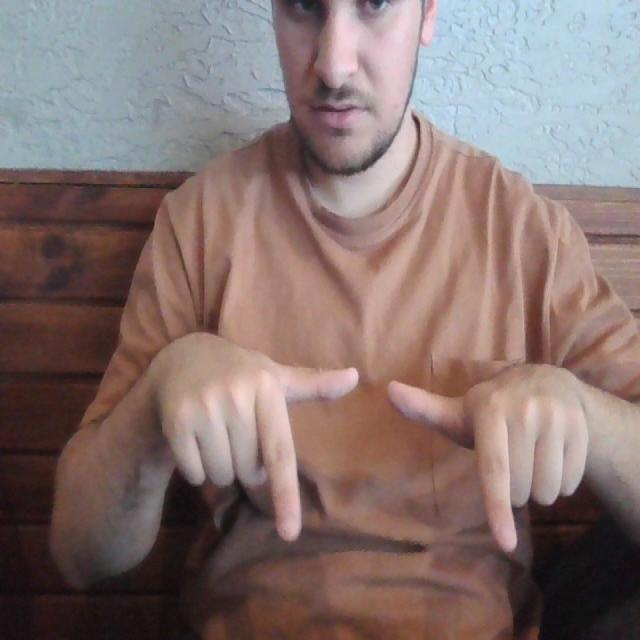Nerede: (243, 337, 522, 588)
